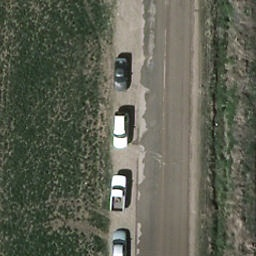car: (111, 111, 131, 148), (113, 58, 131, 94)
pickup: (111, 176, 129, 214)
